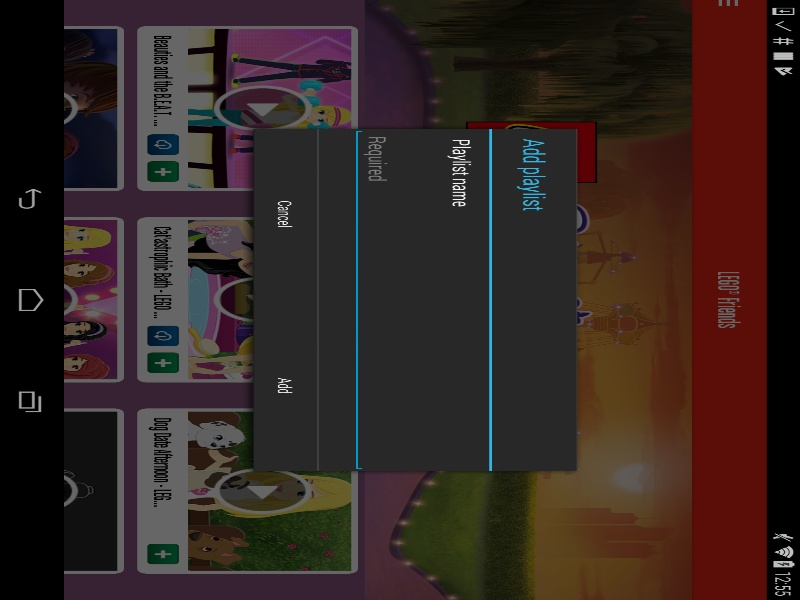Button: (274, 226, 639, 256)
